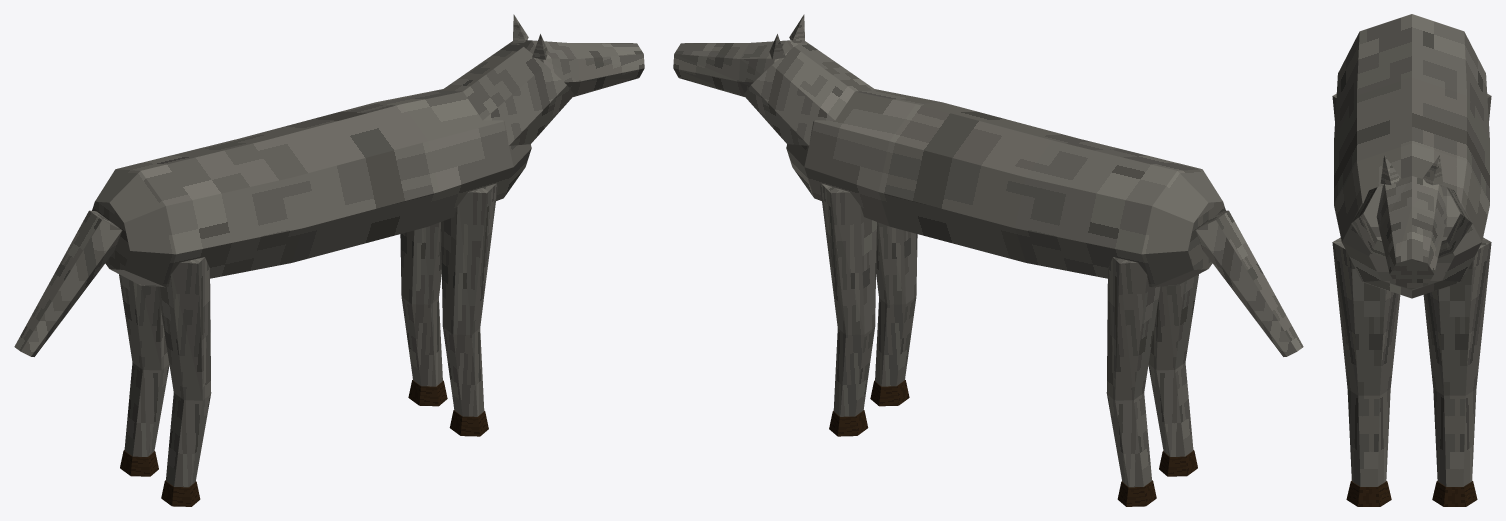
File: lobo.glb
3 views of the same model, side by side, from view 1: azimuth 30°, elevation 25°; view 2: azimuth 150°, elevation 25°; view 3: azimuth 270°, elevation 25° (orthographic). The views are drawn at different scales.
Parts seen in each view (by area): view 1: cuerpo, pata_delantera_der, pata_trasera_der, cuello, pata_trasera_izq, pata_delantera_izq, cola, cabeza, pezuna_delantera_der, pezuna_trasera_izq, pezuna_delantera_izq, pezuna_trasera_der; view 2: cuerpo, pata_delantera_izq, pata_trasera_izq, cuello, pata_trasera_der, pata_delantera_der, cola, cabeza, pezuna_delantera_izq, pezuna_trasera_der, pezuna_delantera_der, pezuna_trasera_izq; view 3: cuerpo, pata_delantera_izq, pata_delantera_der, cabeza, cuello, pezuna_delantera_izq, pezuna_delantera_der, orejas.
Boxes of the visible parts, <box> form: cuerpo: <box>92,89,531,287</box>; pata_delantera_der: <box>441,183,497,416</box>; pata_trasera_der: <box>157,257,211,487</box>; cuello: <box>442,41,574,145</box>; pata_trasera_izq: <box>119,274,169,456</box>; pata_delantera_izq: <box>400,222,442,386</box>; cola: <box>14,210,122,356</box>; cabeza: <box>517,40,644,96</box>; pezuna_delantera_der: <box>449,410,488,436</box>; pezuna_trasera_izq: <box>120,450,158,476</box>; pezuna_delantera_izq: <box>408,380,447,406</box>; pezuna_trasera_der: <box>161,480,200,506</box>; cuerpo: <box>786,89,1225,287</box>; pata_delantera_izq: <box>820,183,876,416</box>; pata_trasera_izq: <box>1106,257,1160,487</box>; cuello: <box>743,41,875,145</box>; pata_trasera_der: <box>1148,274,1198,456</box>; pata_delantera_der: <box>875,222,917,386</box>; cola: <box>1195,210,1303,356</box>; cabeza: <box>673,40,800,96</box>; pezuna_delantera_izq: <box>829,410,868,436</box>; pezuna_trasera_der: <box>1159,450,1197,476</box>; pezuna_delantera_der: <box>870,380,909,406</box>; pezuna_trasera_izq: <box>1117,480,1156,506</box>; cuerpo: <box>1334,14,1489,298</box>; pata_delantera_izq: <box>1423,237,1491,486</box>; pata_delantera_der: <box>1332,237,1400,486</box>; cabeza: <box>1376,176,1447,289</box>; cuello: <box>1351,185,1472,258</box>; pezuna_delantera_izq: <box>1432,481,1477,506</box>; pezuna_delantera_der: <box>1346,481,1391,506</box>; orejas: <box>1380,155,1443,185</box>.
Bounding box in the file's own units: 1.4 × 0.8 × 0.3.
Materials: 1 (1 with a texture image).
